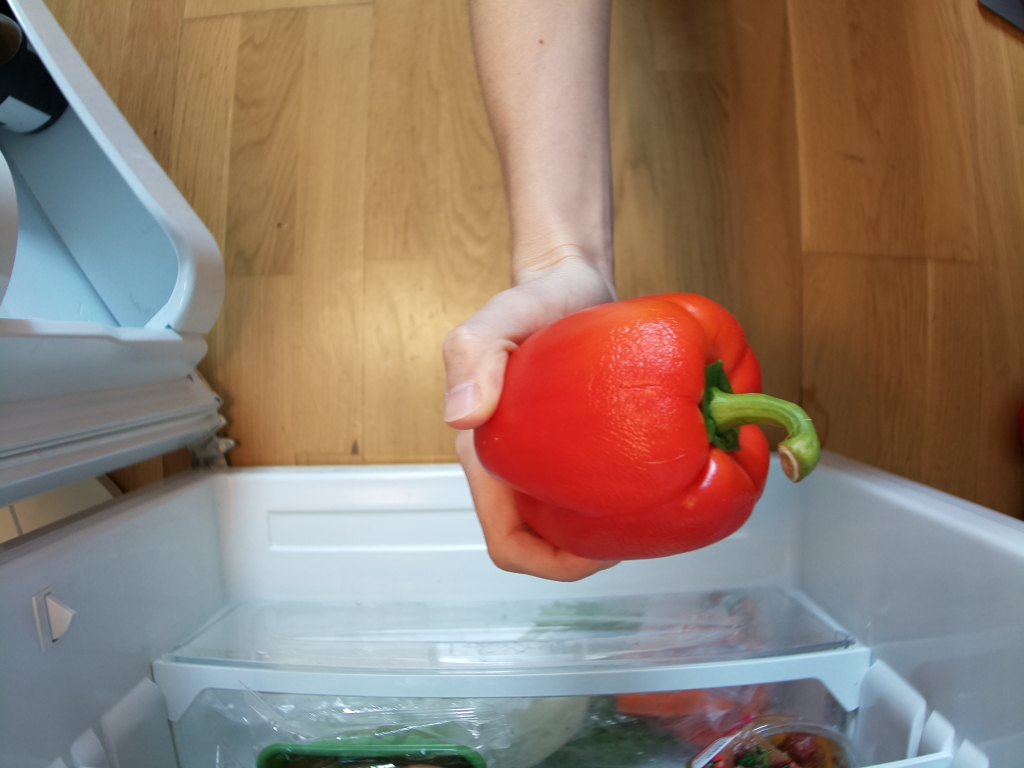pepper-bad: (466, 286, 827, 565)
